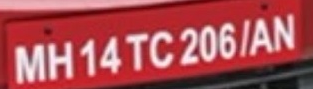0: (199, 24, 219, 63)
1: (78, 38, 98, 78)
2: (180, 27, 200, 66)
4: (98, 35, 123, 76)
6: (219, 20, 237, 61)
A: (249, 18, 274, 55)
C: (149, 29, 175, 71)
H: (46, 40, 75, 81)
M: (14, 43, 46, 84)
N: (273, 12, 297, 53)
T: (124, 32, 150, 72)
